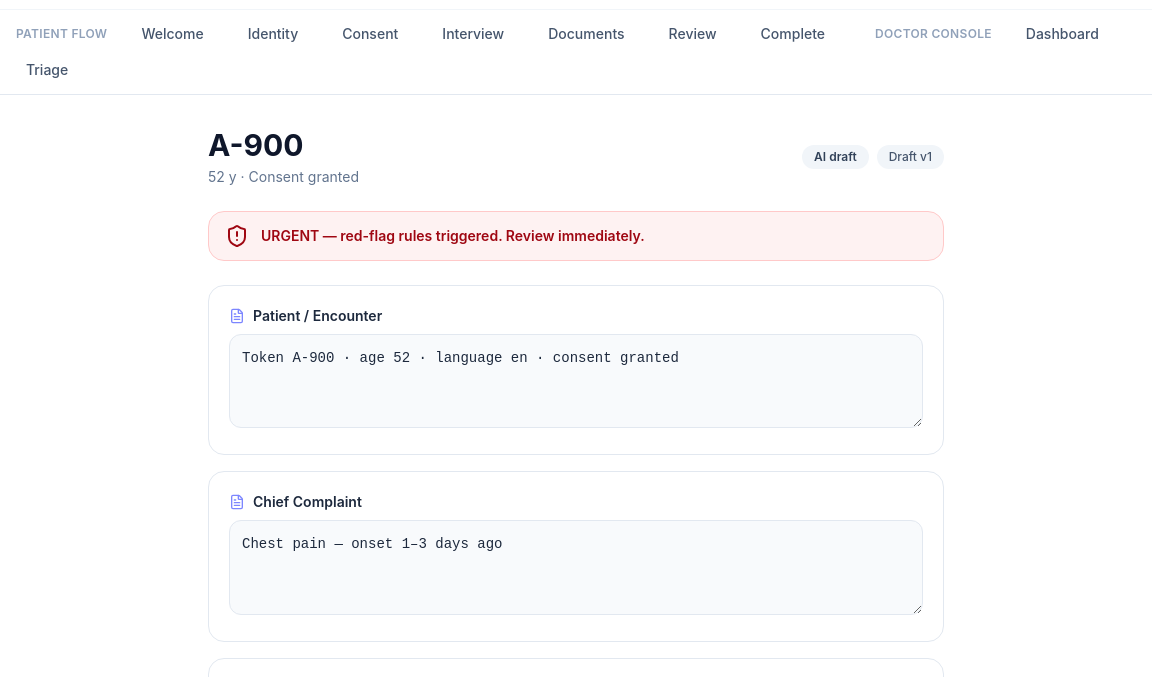
Test case: physician case review › saves physician edits via PATCH
Replace the text in the text box labelled "Chief Complaint" with "Chest pain (edited)": (576, 567) [229,520,923,615]
(page scrolled)
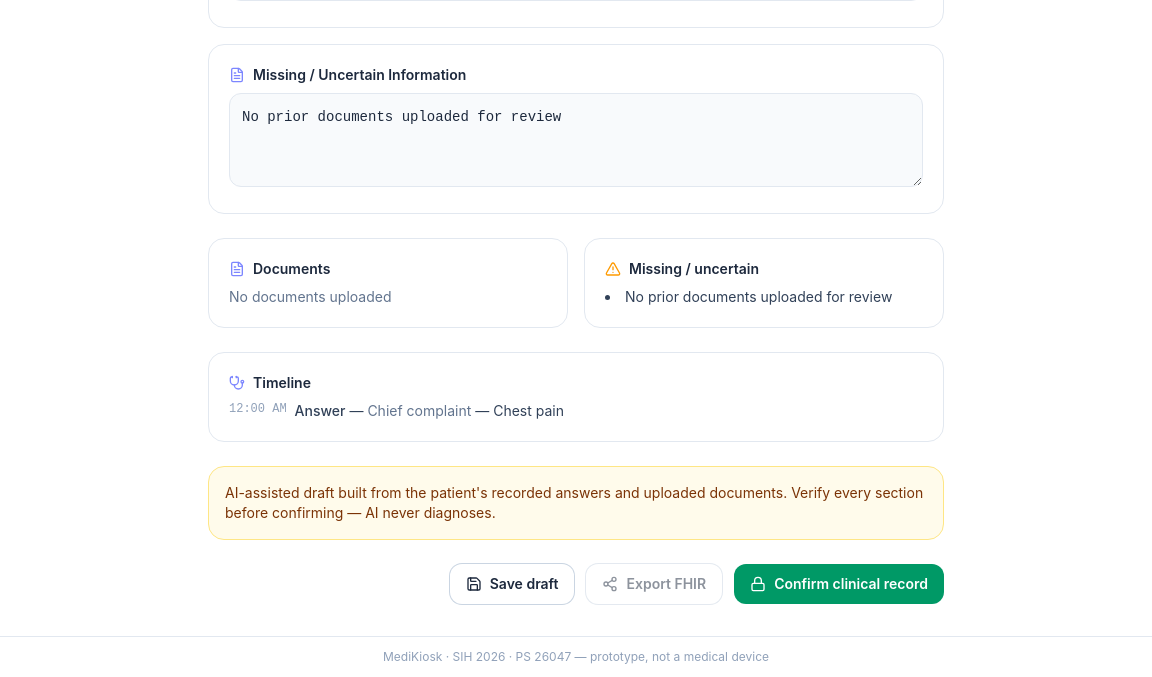
Click the button "Save draft": (512, 584) [450,564,574,604]
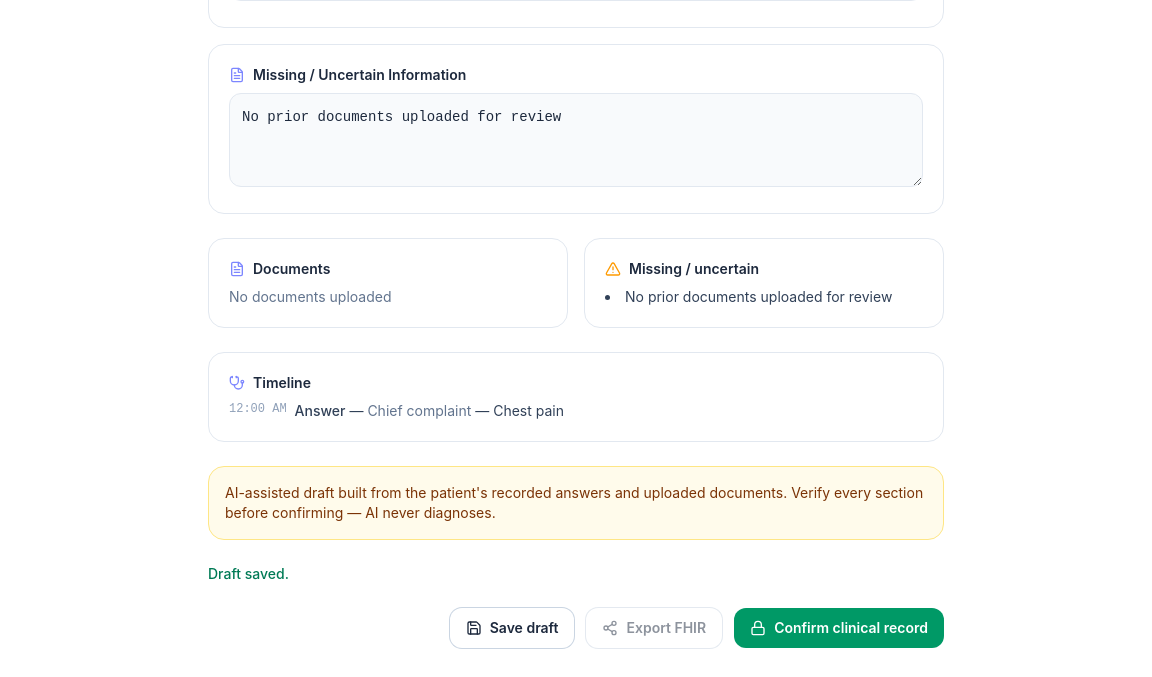
Expected: the text "Draft saved." is shown, [208,565,289,582]
